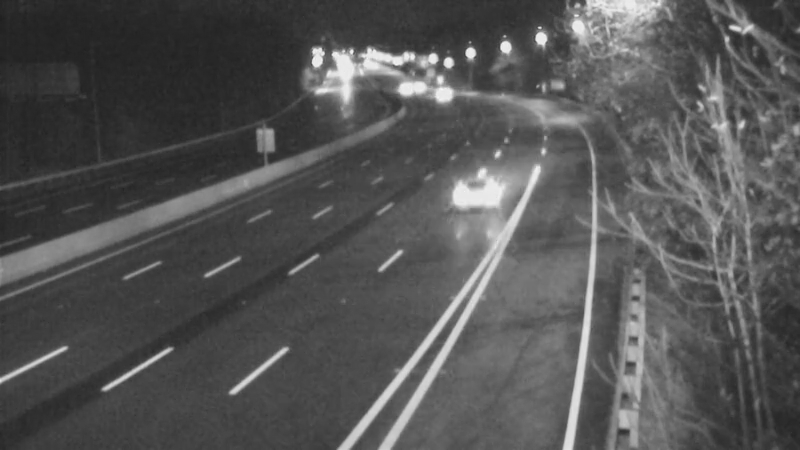vehicle: (446, 148, 526, 228), (389, 61, 439, 111), (375, 61, 425, 111), (418, 70, 468, 120)
